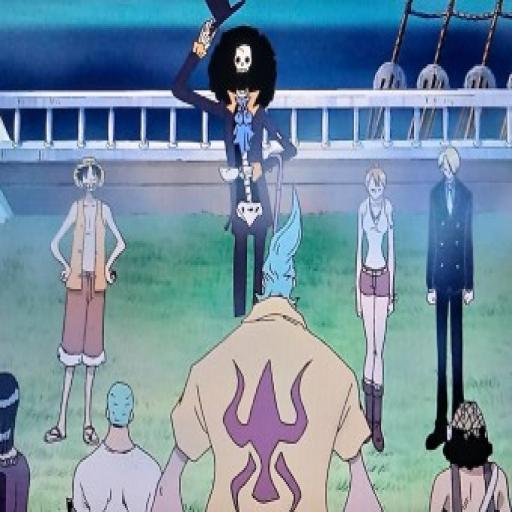Luffy: (69, 149, 114, 200)
Nami: (357, 160, 394, 204)
NicoRobin: (0, 363, 26, 455)
Usopp: (443, 398, 501, 473)
Zoro: (99, 373, 149, 436)
sanji: (436, 146, 466, 182)
